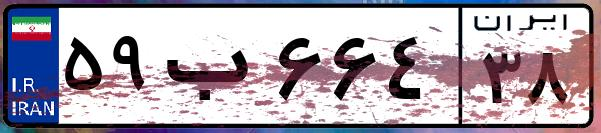3: (475, 38, 525, 113)
4: (385, 28, 445, 110)
5: (57, 26, 110, 100)
6: (270, 28, 330, 110), (330, 28, 385, 110)
8: (525, 38, 570, 115)
9: (110, 28, 158, 98)
ب: (158, 20, 270, 120)
